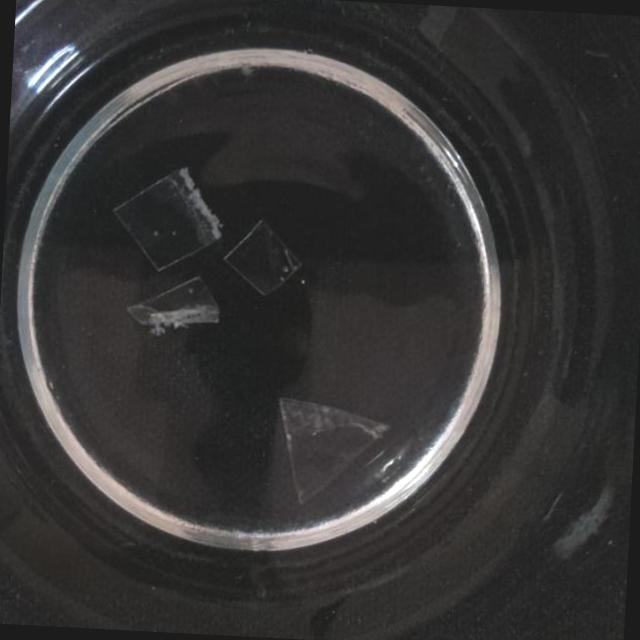fiber: (262, 388, 396, 519), (99, 162, 228, 280), (116, 265, 230, 343), (228, 213, 308, 304)
